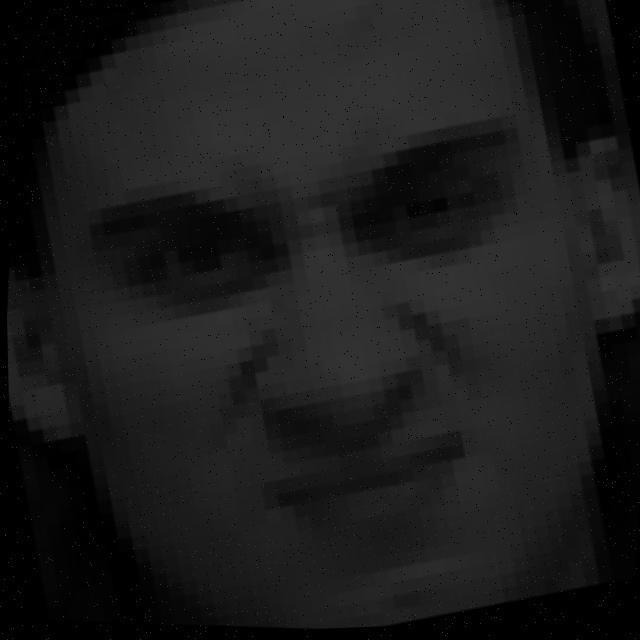Disgust: (47, 65, 640, 590)
